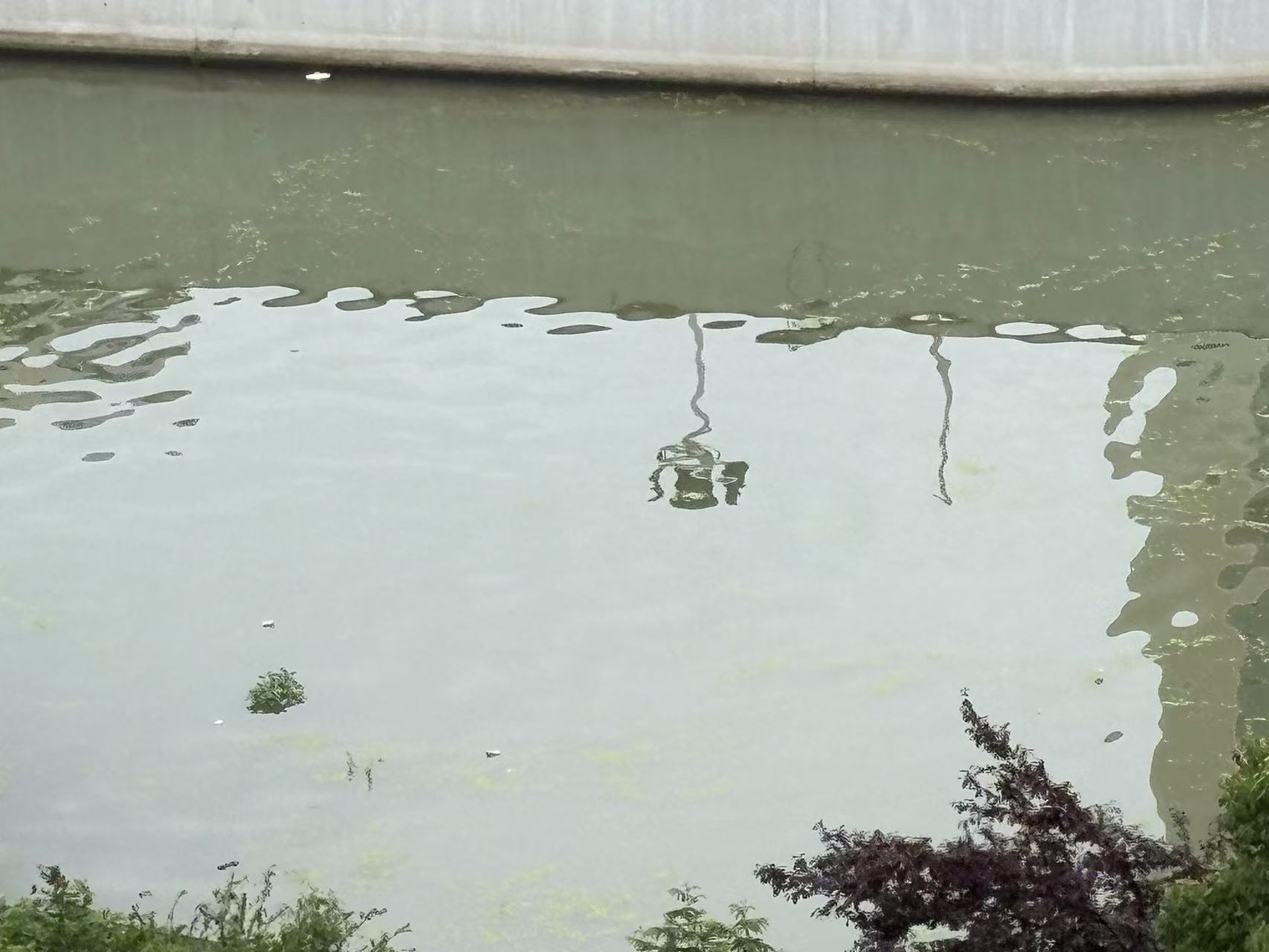Natural wastes: (248, 667, 303, 714)
Plastic wastes: (304, 69, 330, 81), (486, 748, 500, 758), (262, 620, 272, 625), (216, 720, 224, 724)
